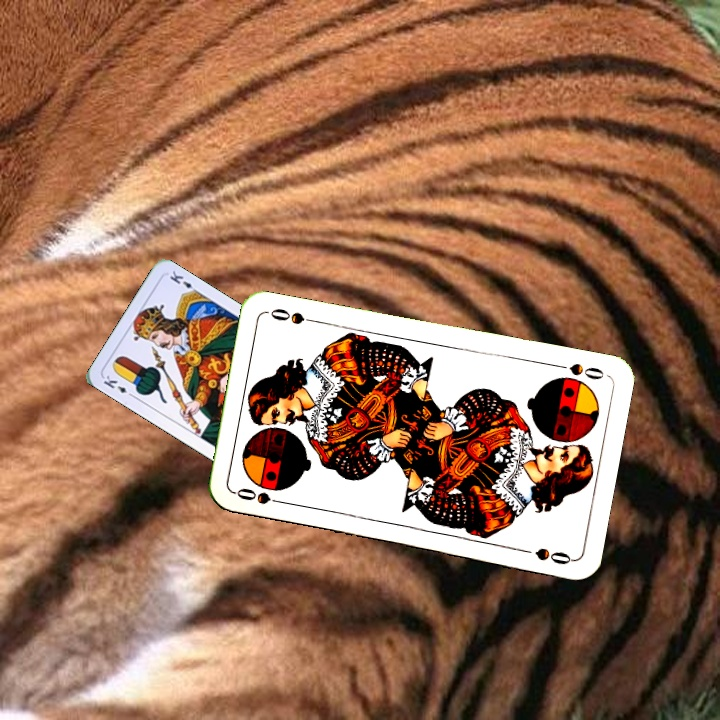EK: (99, 371, 137, 400)
SO: (232, 483, 290, 507), (550, 359, 607, 383)
